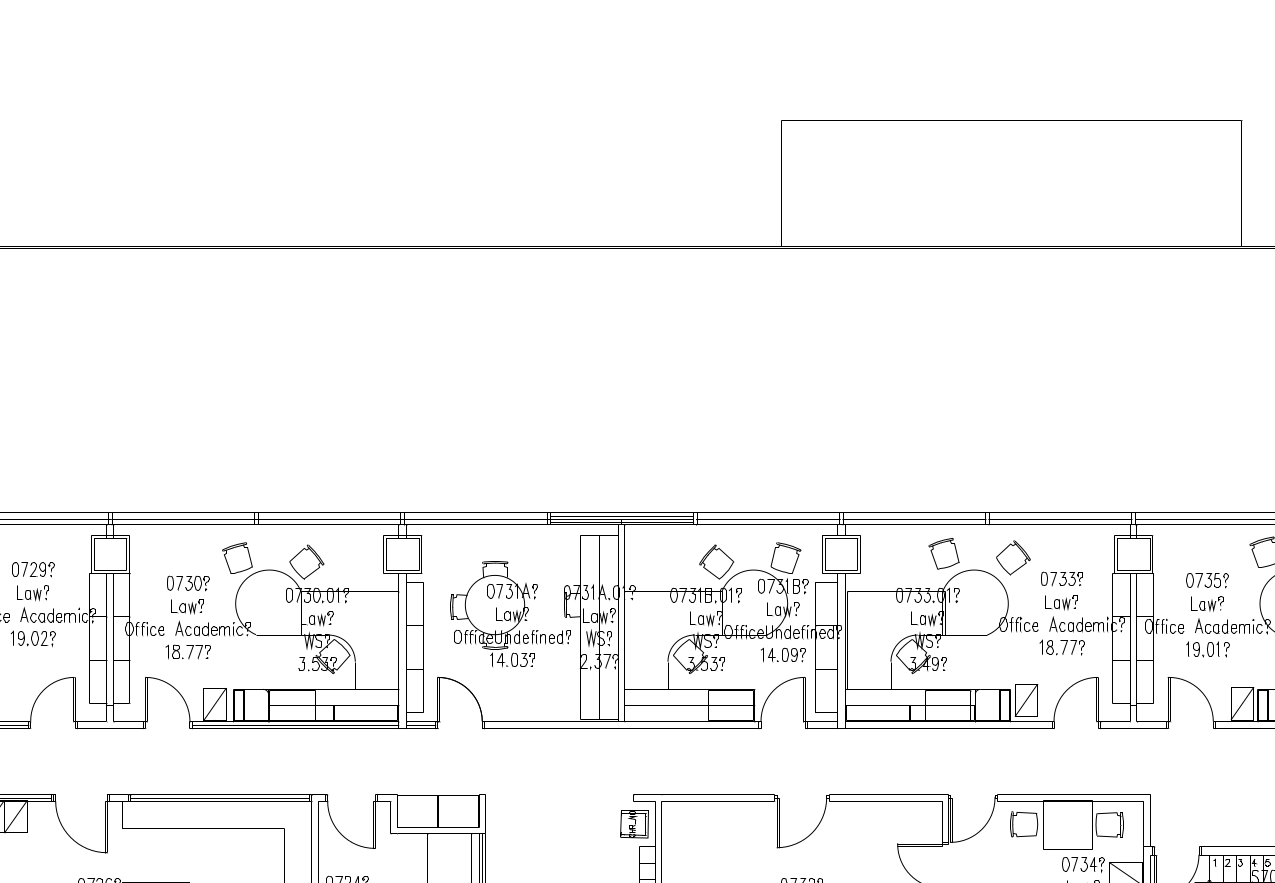door: (50, 798, 111, 860), (772, 796, 831, 854), (757, 672, 810, 730), (1050, 671, 1103, 729), (1165, 671, 1218, 729), (435, 673, 488, 731), (326, 799, 379, 857), (139, 670, 192, 728), (26, 669, 79, 727), (948, 790, 1001, 848), (890, 838, 943, 883)
